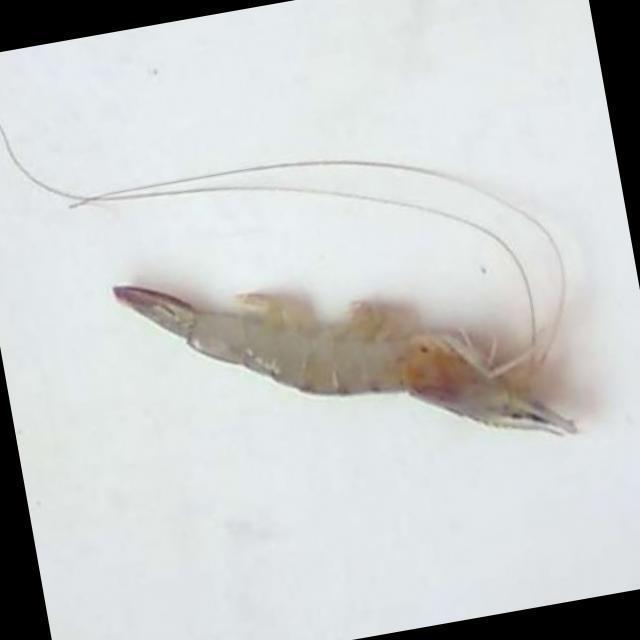shrimp: (114, 286, 579, 435)
